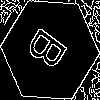B: (25, 25, 76, 79)
